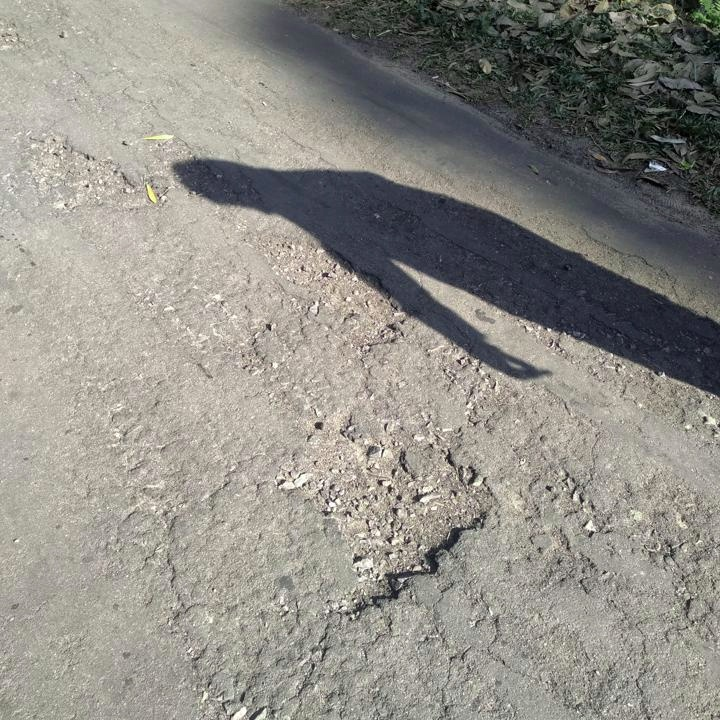pothole: (276, 421, 497, 616), (245, 229, 408, 348), (23, 134, 137, 209)
